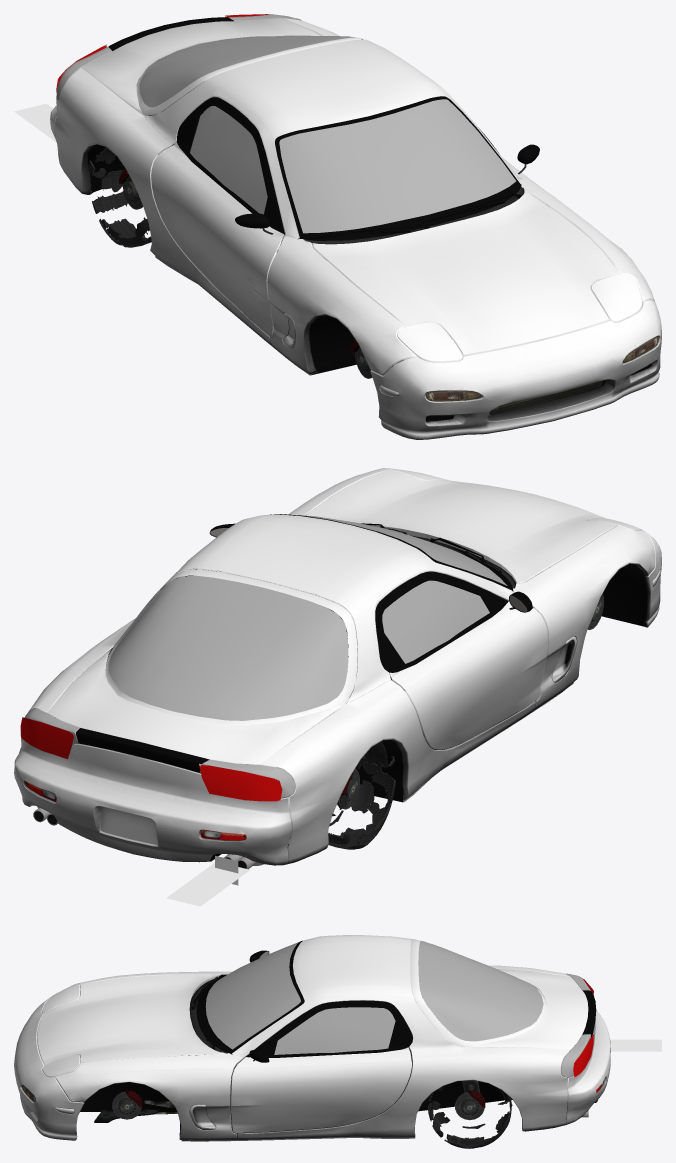
3 views of the same model, one above another, from view 1: azimuth 30°, elevation 25°; view 2: azimuth 150°, elevation 25°; view 3: azimuth 270°, elevation 25° (orthographic). The views are drawn at different scales.
Visible parts, largest first — view 1: Body_Duco, Kit_01_Duco, Body_Glass, Body_Glossy, Body_Matte, NitroFlame_1; view 2: Body_Duco, Kit_01_Duco, Body_Glass, Body_Glossy, Body_Matte, BrakeLights, NitroFlame_1; view 3: Body_Duco, Body_Glass, Kit_01_Duco, Body_Glossy, Body_Matte, Rotor (×2), NitroFlame_1, BrakeLights.
Part boxes in pixels (bbox=[...]): Body_Duco: bbox=[54, 18, 654, 375]; Kit_01_Duco: bbox=[50, 39, 661, 439]; Body_Glass: bbox=[56, 14, 516, 233]; Body_Glossy: bbox=[108, 17, 658, 401]; Body_Matte: bbox=[88, 39, 639, 415]; NitroFlame_1: bbox=[14, 103, 56, 142]; Body_Duco: bbox=[20, 468, 654, 864]; Kit_01_Duco: bbox=[14, 469, 661, 865]; Body_Glass: bbox=[20, 515, 507, 798]; Body_Glossy: bbox=[25, 514, 532, 840]; Body_Matte: bbox=[34, 564, 647, 868]; BrakeLights: bbox=[20, 717, 282, 801]; NitroFlame_1: bbox=[166, 862, 249, 906]; Body_Duco: bbox=[42, 935, 588, 1141]; Body_Glass: bbox=[205, 941, 590, 1077]; Kit_01_Duco: bbox=[14, 975, 610, 1140]; Body_Glossy: bbox=[22, 940, 604, 1102]; Body_Matte: bbox=[80, 974, 597, 1141]; Rotor (×2): bbox=[112, 1091, 484, 1120]; NitroFlame_1: bbox=[610, 1039, 661, 1051]; BrakeLights: bbox=[573, 976, 593, 1077].
Size of what is drawn, in the model's own units: 1.83 by 1.17 by 4.59.
